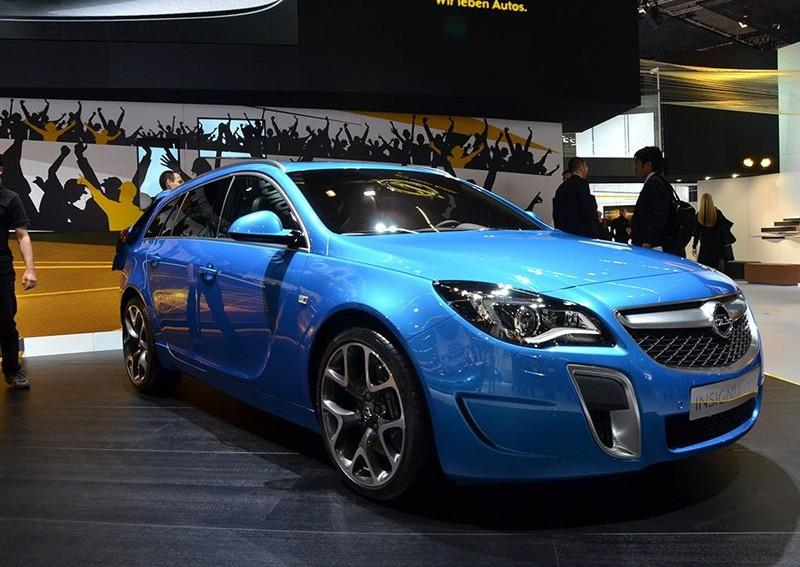Wagon: (117, 158, 766, 502)
